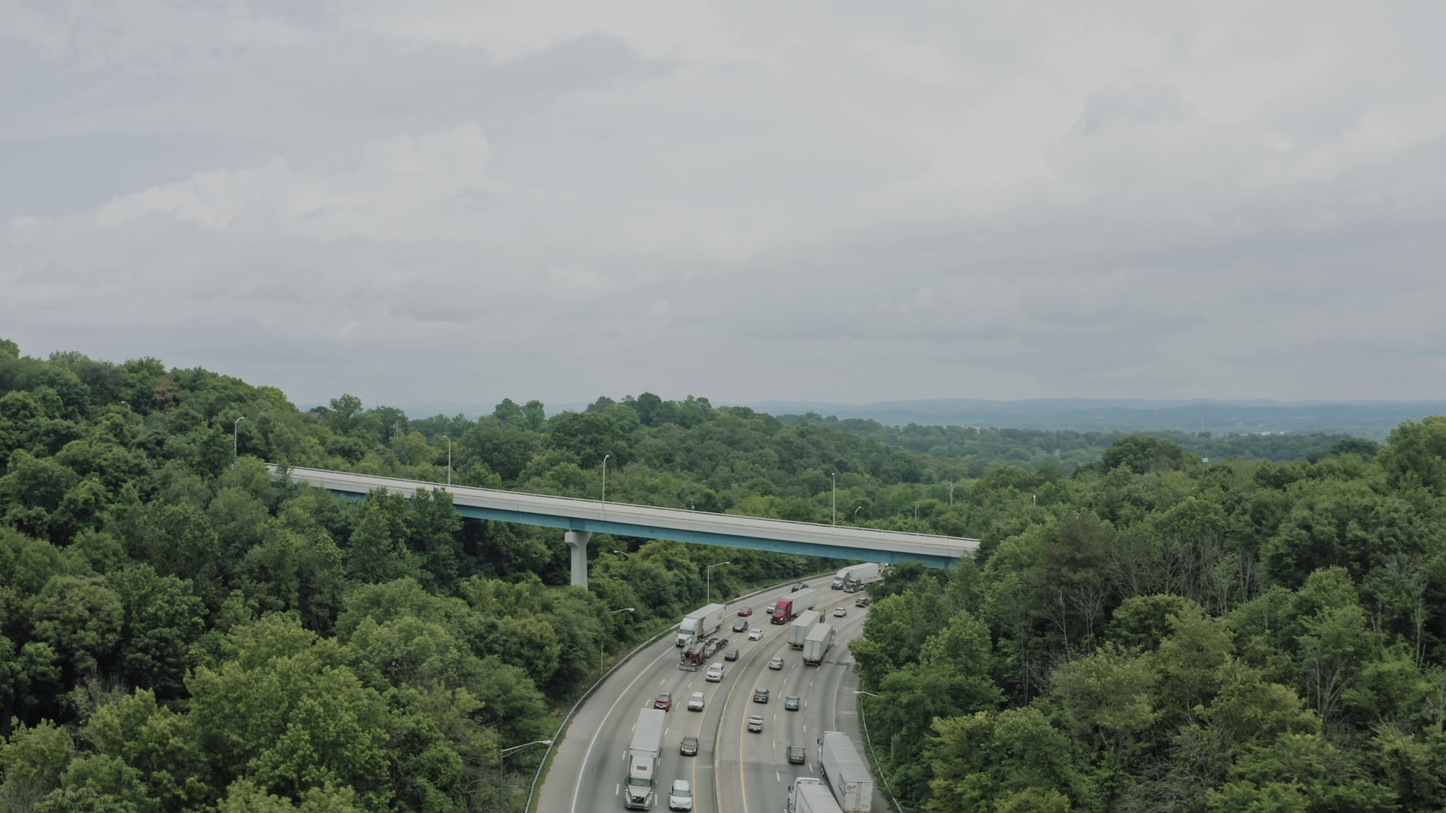Vehicle: (620, 752, 663, 811), (814, 728, 847, 764), (786, 777, 819, 808), (678, 641, 708, 672), (674, 615, 703, 647), (668, 779, 694, 812), (771, 600, 791, 625), (831, 568, 852, 591), (705, 662, 725, 682), (653, 691, 672, 712), (786, 746, 806, 765), (680, 736, 699, 756), (687, 691, 705, 711), (747, 715, 764, 733), (753, 688, 770, 704), (843, 579, 861, 593), (784, 696, 800, 711), (724, 648, 739, 662), (748, 628, 764, 640), (791, 582, 809, 592), (771, 657, 784, 670), (738, 606, 753, 617), (855, 597, 870, 608), (833, 607, 847, 618), (766, 602, 777, 614), (732, 620, 749, 626)
